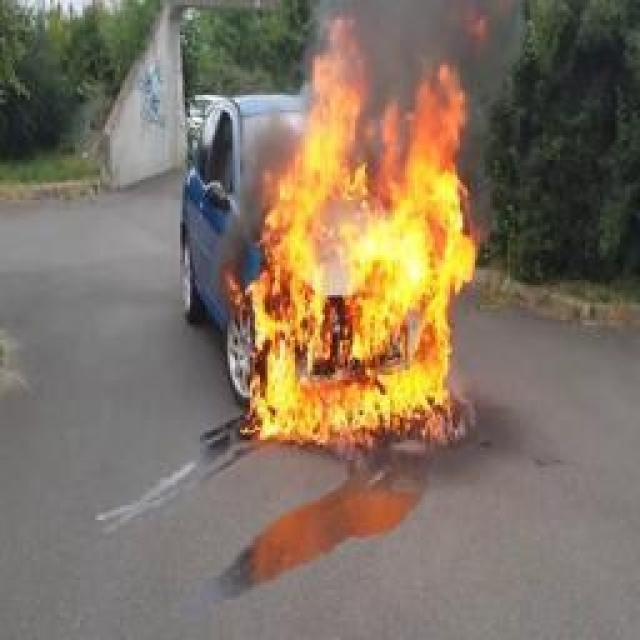Fire: (255, 16, 480, 444)
